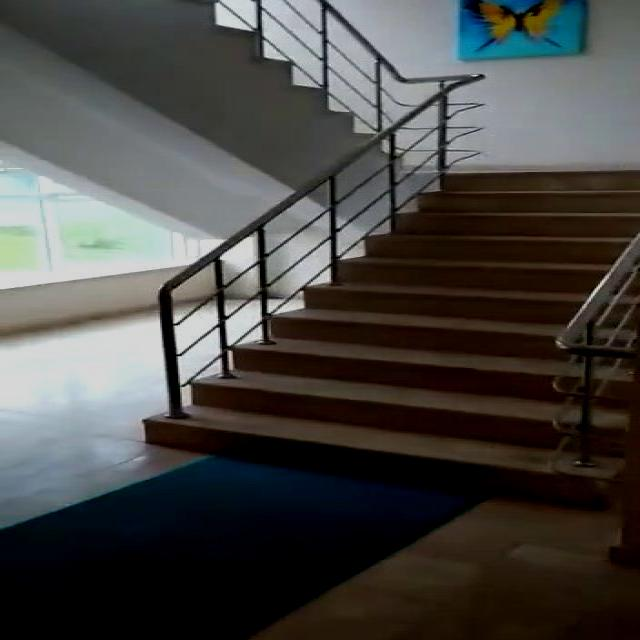stair: (119, 153, 640, 501)
